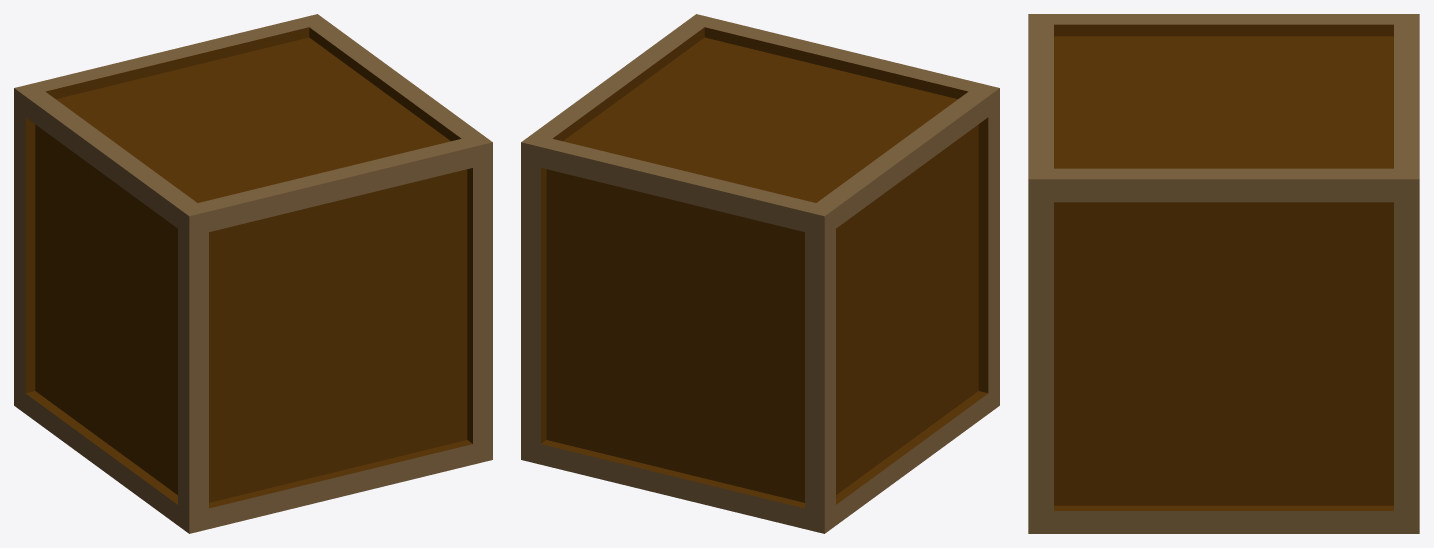
Rendered from crate.glb.
The picture shows the model from 3 angles, left to right: view 1: azimuth 30°, elevation 25°; view 2: azimuth 150°, elevation 25°; view 3: azimuth 270°, elevation 25°; orthographic projection. The views are drawn at different scales.
Visible parts, largest first — view 1: crate; view 2: crate; view 3: crate.
Boxes of the visible parts, left/top/right/bottom form: crate: left=14, top=14, right=492, bottom=533; crate: left=521, top=14, right=999, bottom=533; crate: left=1028, top=14, right=1419, bottom=533.
Bounding box in the file's own units: 1.19 × 1.19 × 1.19.
